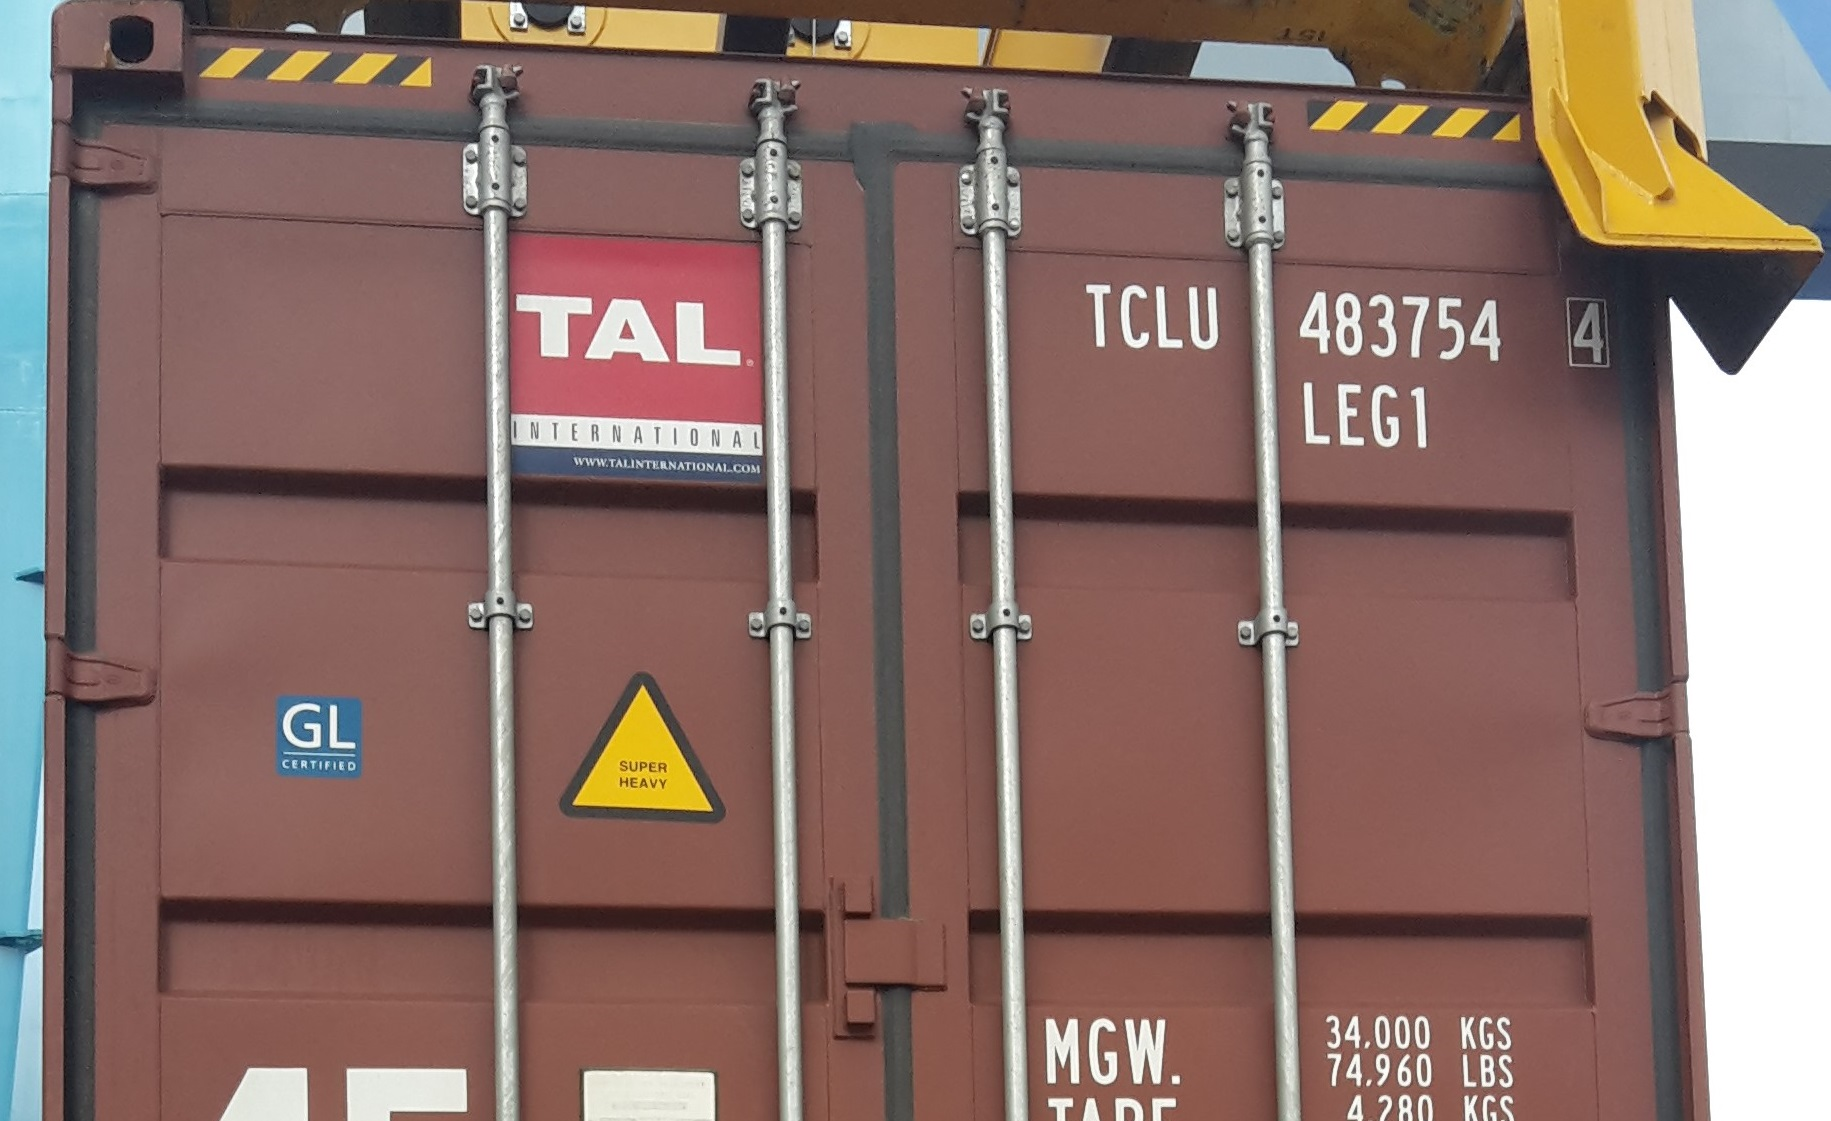container_door: (42, 4, 1721, 1121)
